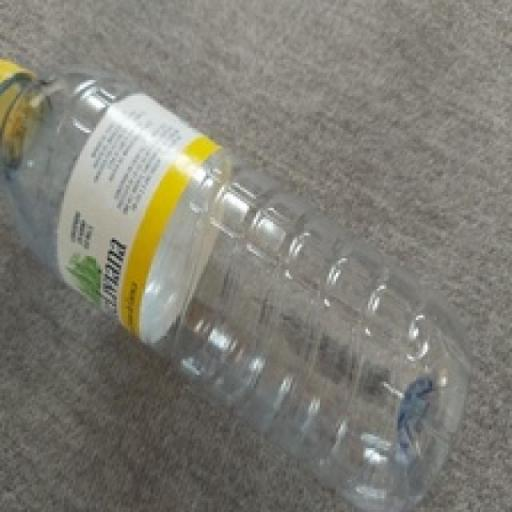plastic: (0, 59, 475, 510)
